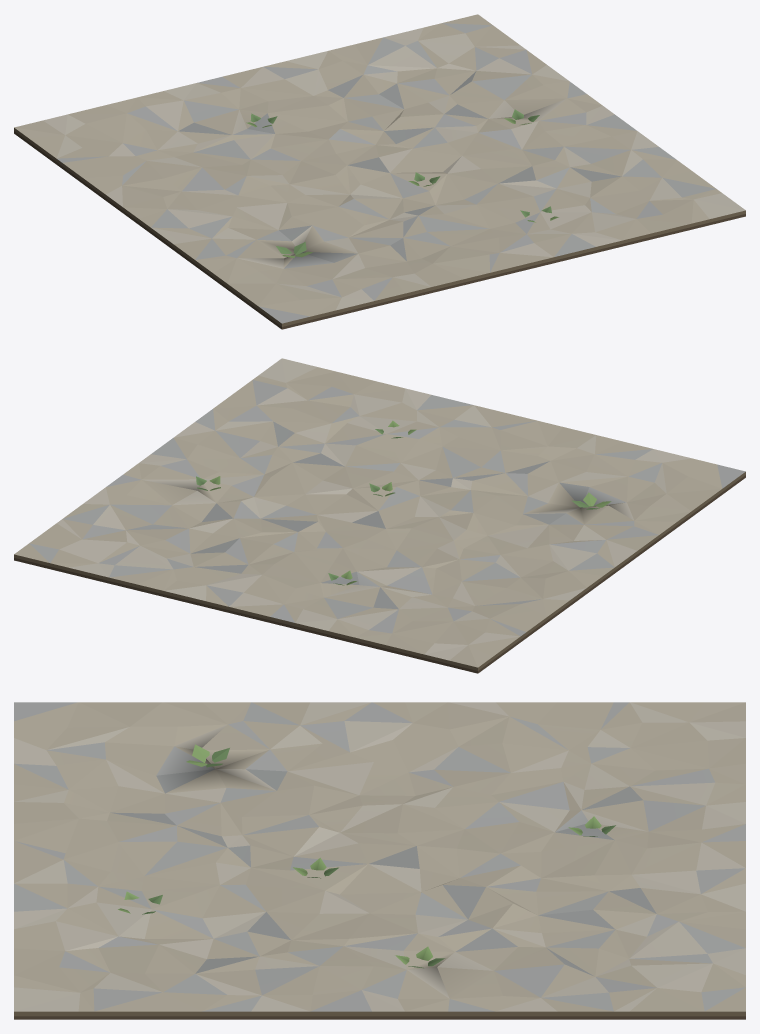
The model's file is t_gravel.glb.
3 renders of one model, top to bottom at view 1: azimuth 30°, elevation 25°; view 2: azimuth 150°, elevation 25°; view 3: azimuth 270°, elevation 25°, orthographic. The views are drawn at different scales.
Parts seen in each view (by area): view 1: t_gravel; view 2: t_gravel; view 3: t_gravel.
Boxes of the visible parts, bbox=[...] form: t_gravel: bbox=[14, 14, 745, 329]; t_gravel: bbox=[14, 358, 745, 673]; t_gravel: bbox=[14, 702, 745, 1019].
Size of the model in its own units: 4 by 0.0778 by 4.
